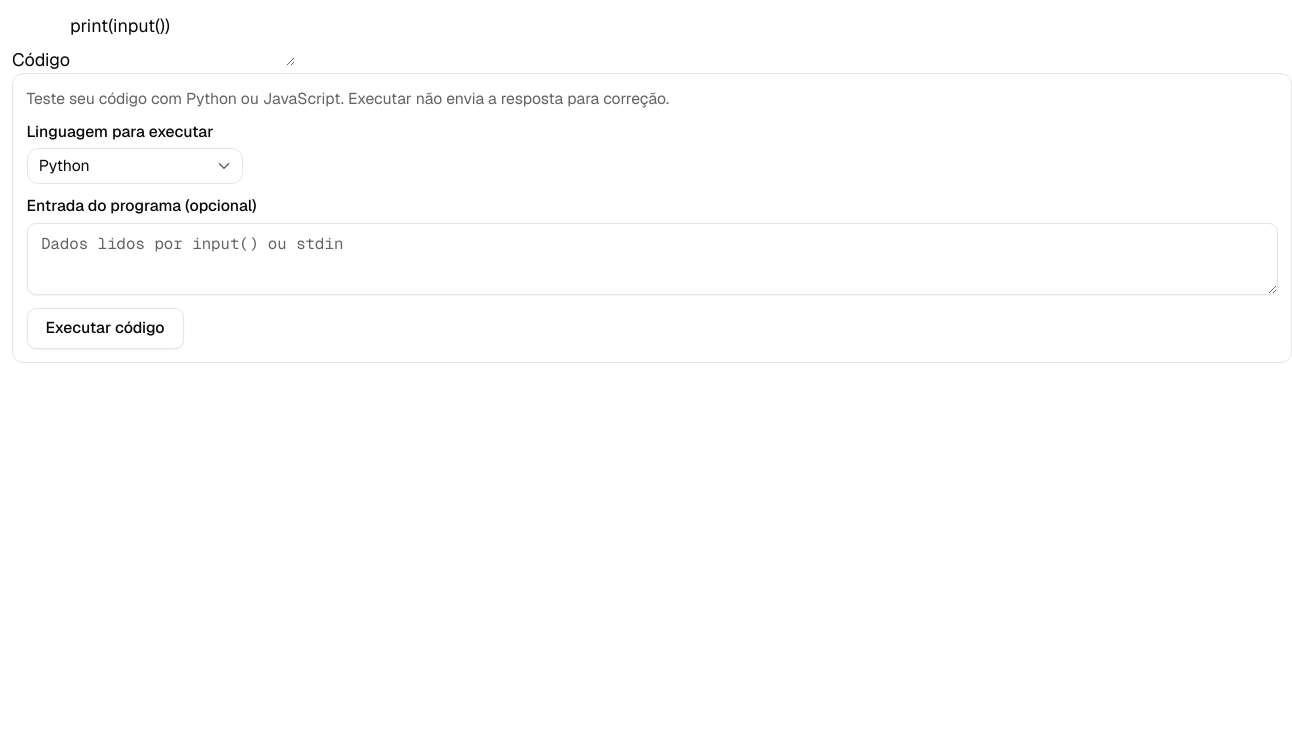
Test: Execução experimental de código › executa com linguagem e stdin sem submeter tentativa, preservando o código
In the text box labelled "Entrada do programa (opcional)": (652, 258) [26,222,1278,294], type "Olá"
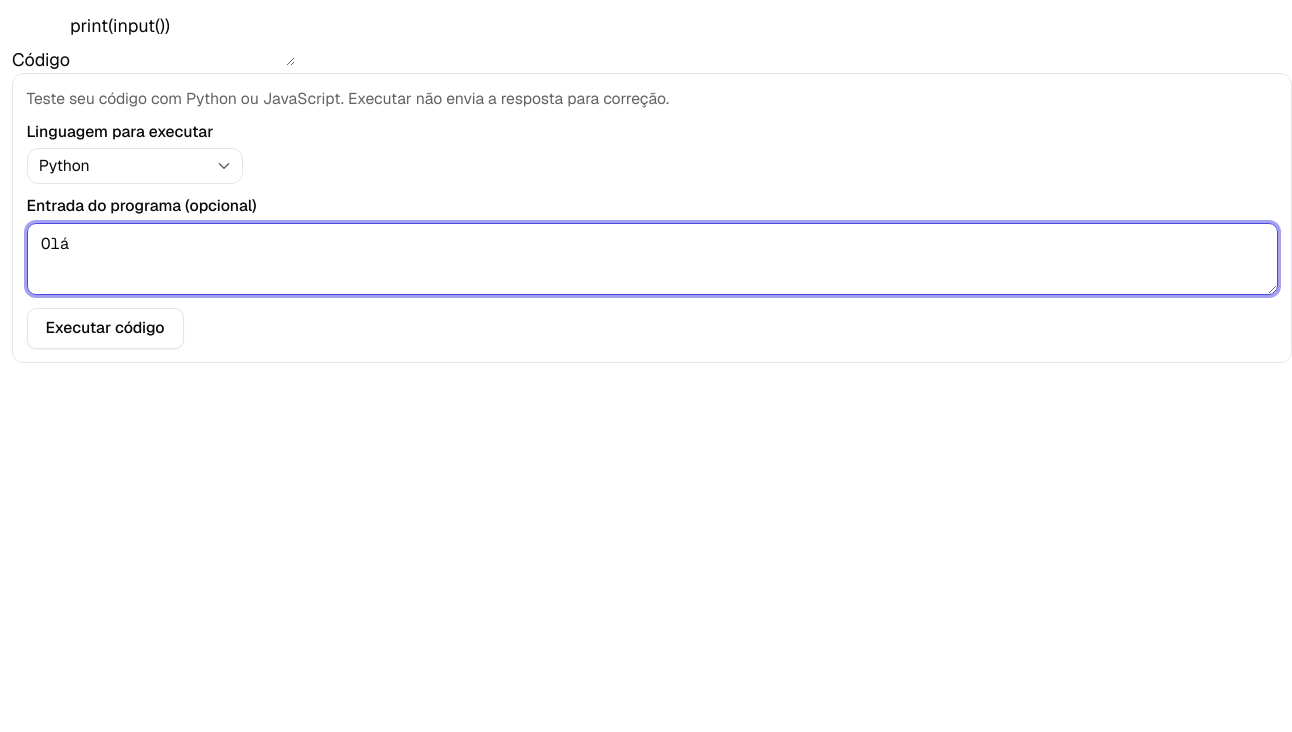
Click the button "Executar código": (105, 328) [26,308,184,348]
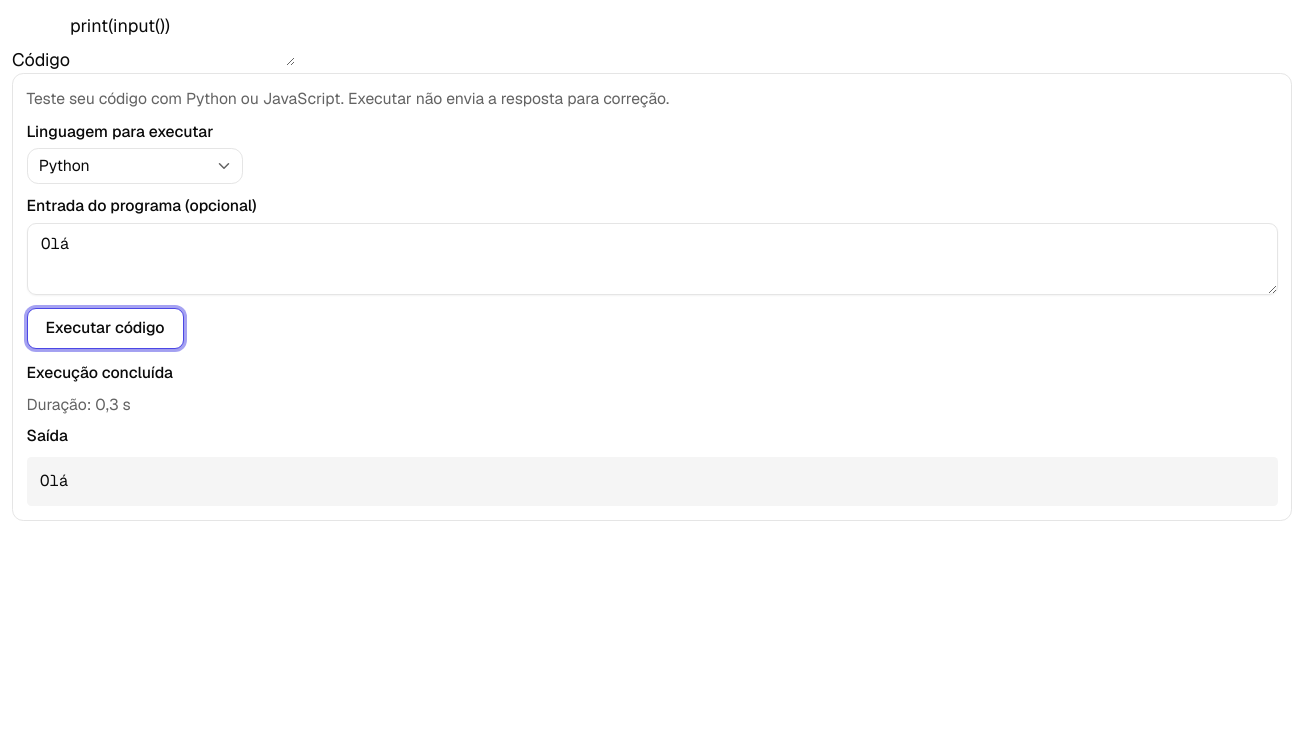
Check: the text box labelled "Código" holds "print(input())", box [70,12,295,66]
Check: the text "Execução concluída" is shown, box [26,362,173,383]
Check: the text "Olá" is shown, box [26,456,1278,506]
